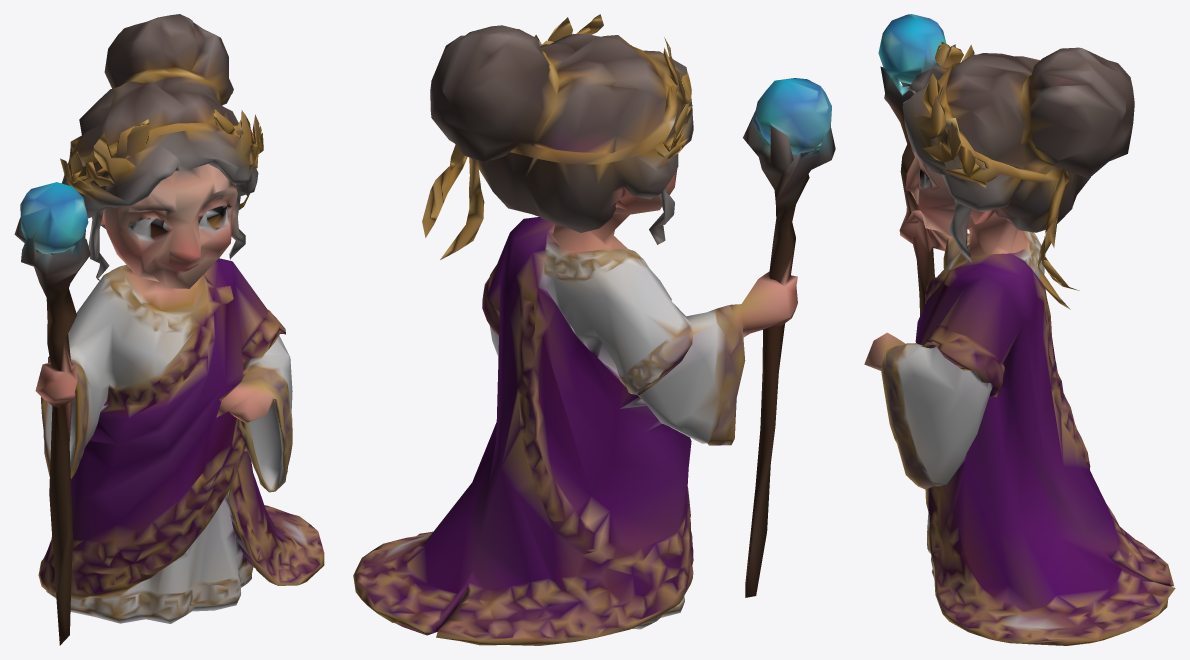
Rendered from vestec_f_lo.glb.
3 views of the same model, side by side, from view 1: azimuth 30°, elevation 25°; view 2: azimuth 150°, elevation 25°; view 3: azimuth 270°, elevation 25° (orthographic). The views are drawn at different scales.
Size of the model in its own units: 1.34 by 1.9 by 1.01.
